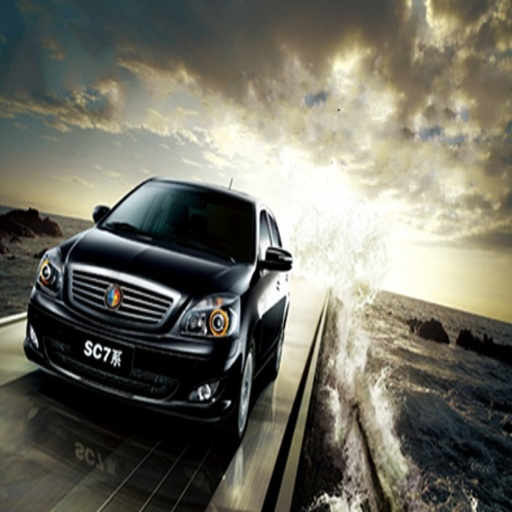front_bumper: (24, 265, 251, 421)
front_glass: (98, 180, 254, 259)
front_left_door: (253, 210, 279, 319)
front_left_light: (183, 294, 238, 334)
